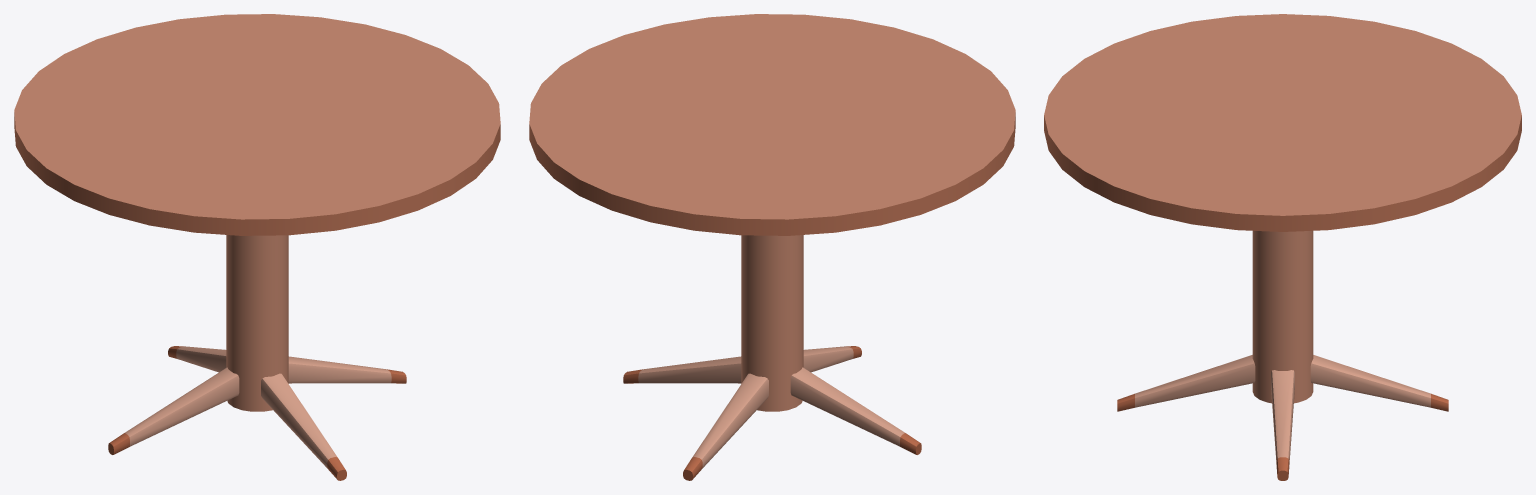
Rendered from Table B.fbx.
3 renders of one model, left to right at view 1: azimuth 30°, elevation 25°; view 2: azimuth 150°, elevation 25°; view 3: azimuth 270°, elevation 25°, orthographic. The views are drawn at different scales.
Visible parts, largest first — view 1: Cylinder.002; view 2: Cylinder.002; view 3: Cylinder.002.
Boxes of the visible parts, left/top/right/bottom form: Cylinder.002: left=14, top=14, right=500, bottom=480; Cylinder.002: left=529, top=14, right=1015, bottom=480; Cylinder.002: left=1044, top=14, right=1521, bottom=480.
Size of the model in its own units: 2 by 1.37 by 2.
